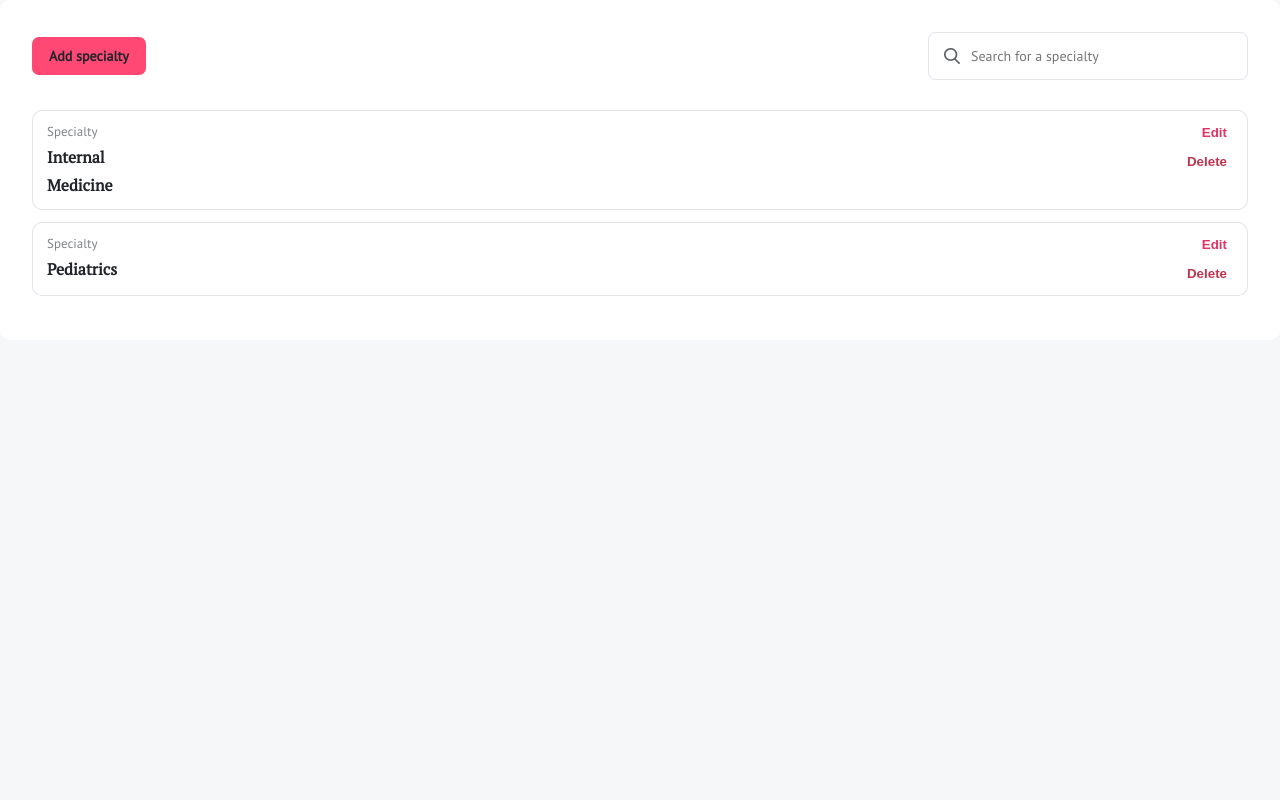
Test: SpecialtiesPage › deletes a specialty after confirmation
Check: the text "Pediatrics" is shown, box [47, 258, 117, 280]
Click the button "Delete" in the row of "Pediatrics". click: [1207, 274]
box: [1181, 262, 1233, 285]
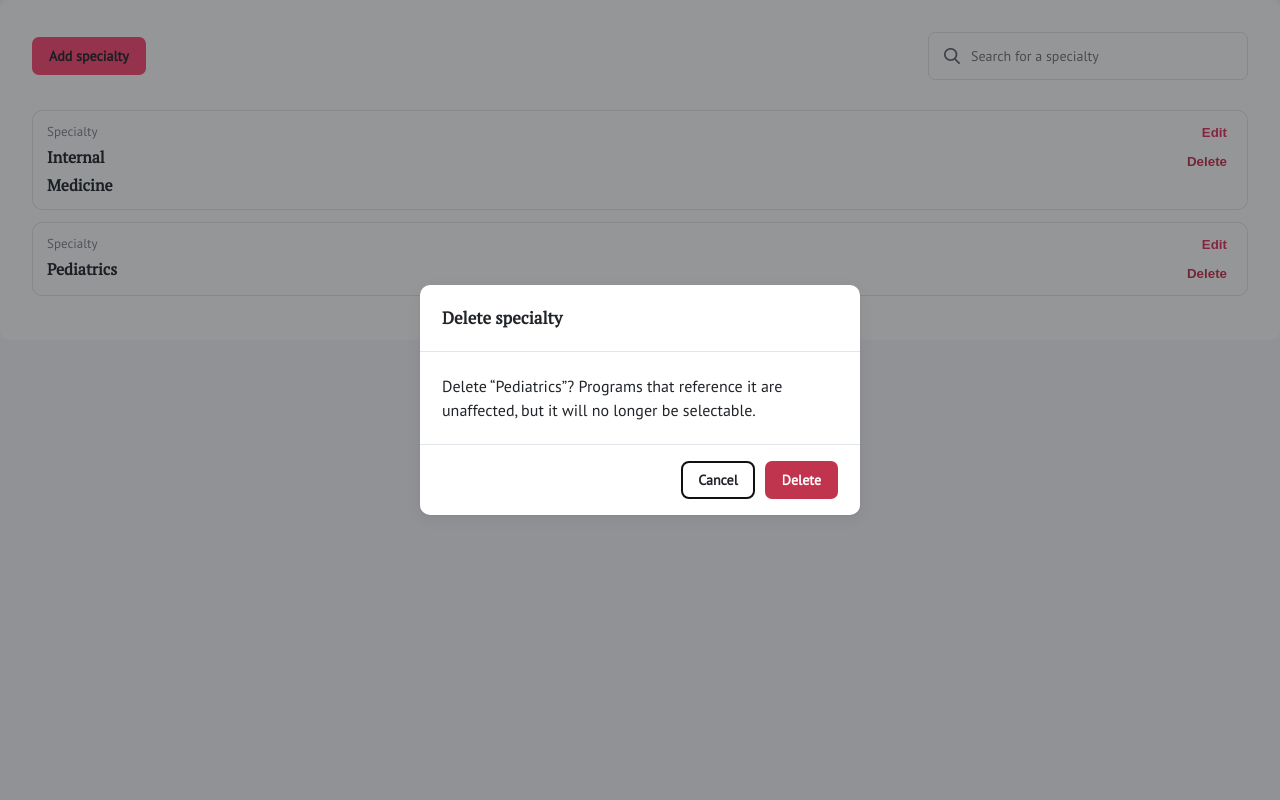
Click the button "Delete". click: [801, 480]
box: [765, 461, 838, 499]
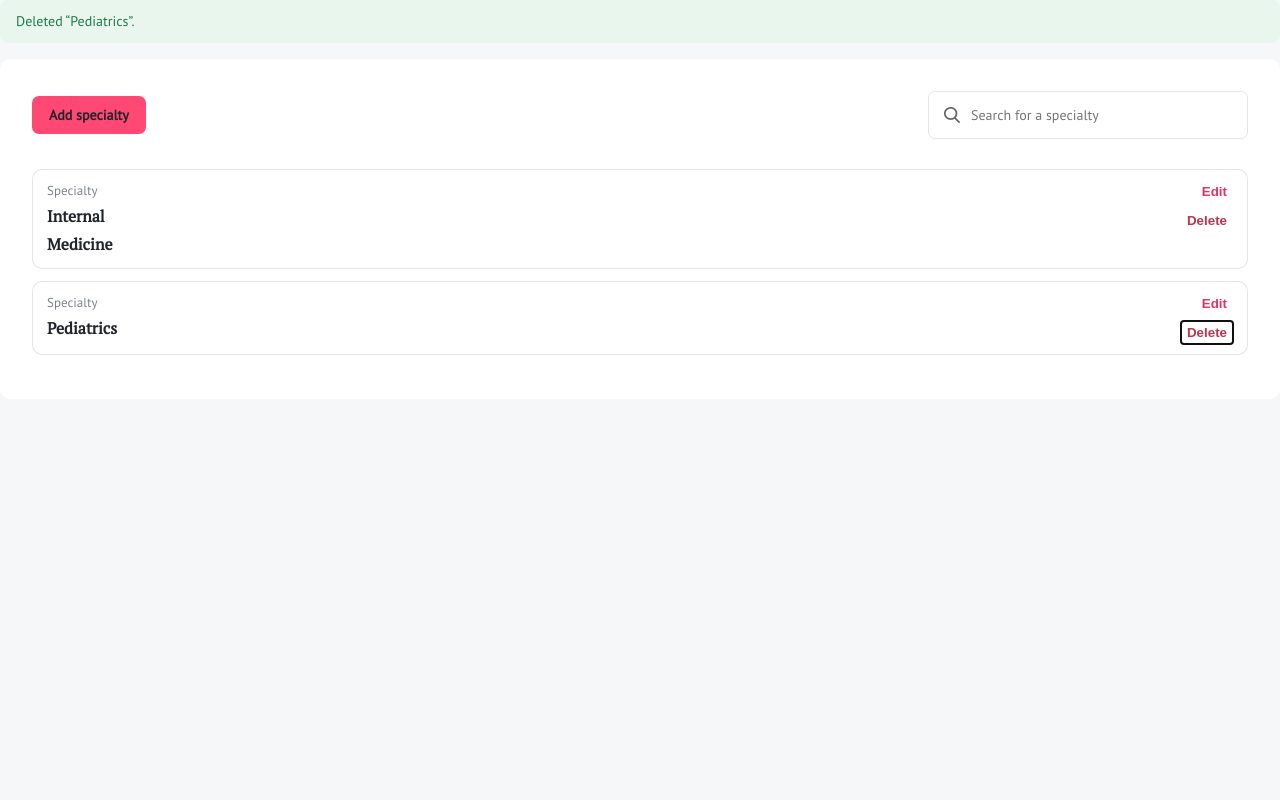
Check: the text "Deleted “Pediatrics”." is shown, box [0, 0, 1279, 43]
